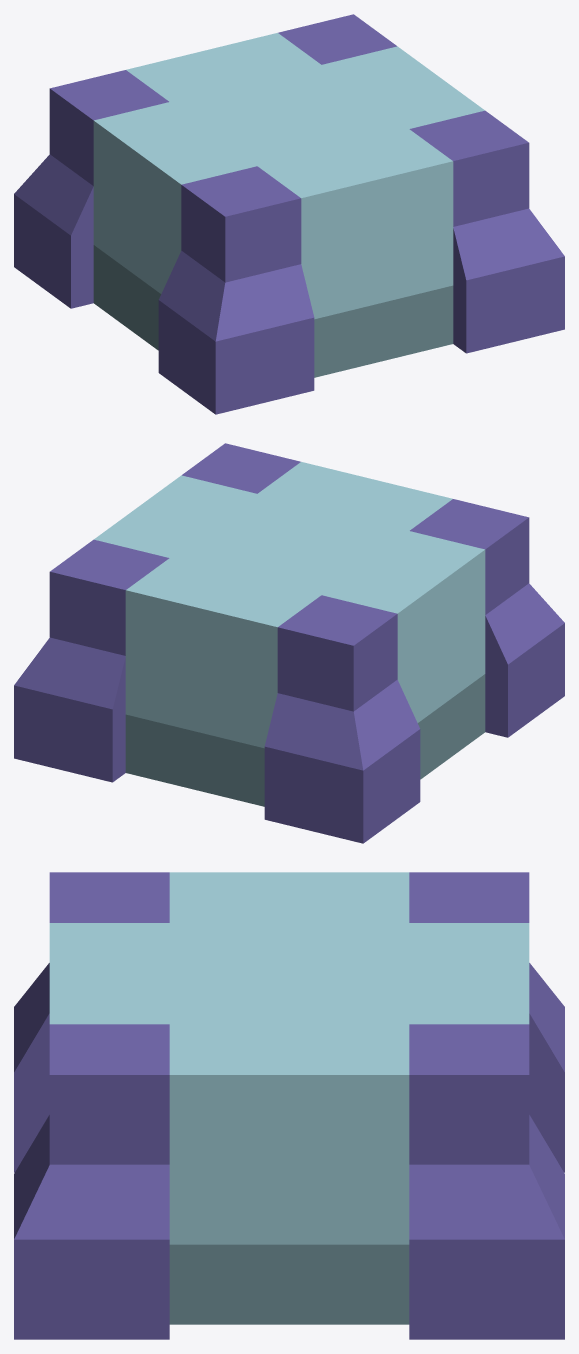
File: towerSquare_bottomB.dae
3 renders of one model, top to bottom at view 1: azimuth 30°, elevation 25°; view 2: azimuth 150°, elevation 25°; view 3: azimuth 270°, elevation 25°, orthographic. The views are drawn at different scales.
Visible parts, largest first — view 1: towerSquare_bottomB; view 2: towerSquare_bottomB; view 3: towerSquare_bottomB.
Part boxes in pixels (box(x1,y1,x2,y2)): towerSquare_bottomB: box(14, 14, 564, 414); towerSquare_bottomB: box(14, 443, 564, 843); towerSquare_bottomB: box(14, 872, 564, 1339).
Size of the model in its own units: 1 by 0.5 by 1.
